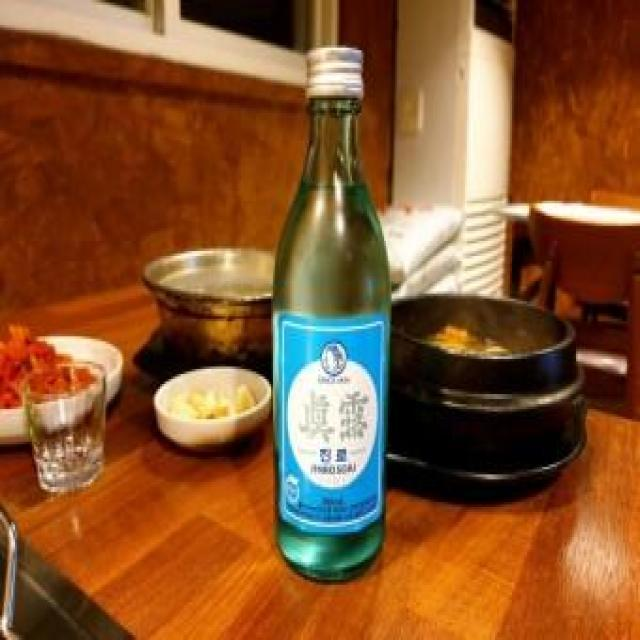soju-bottle: (273, 45, 392, 582)
